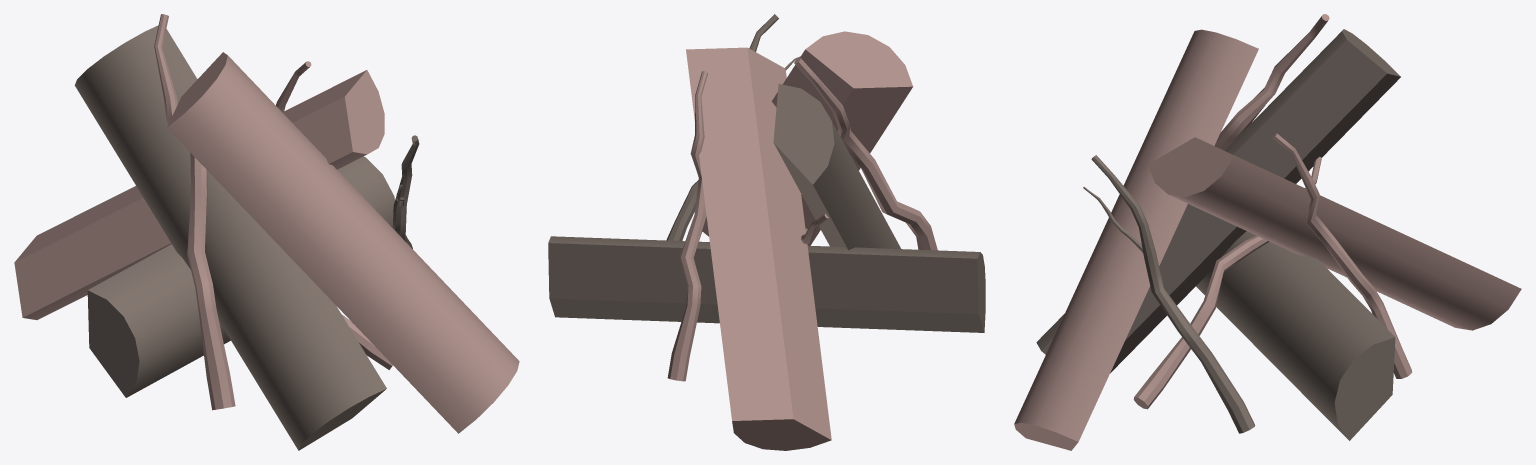
Rendered from firewood.fbx.
The picture shows the model from 3 angles, left to right: view 1: azimuth 30°, elevation 25°; view 2: azimuth 150°, elevation 25°; view 3: azimuth 270°, elevation 25°; orthographic projection.
Parts seen in each view (by area): view 1: pCylinder20; view 2: pCylinder20; view 3: pCylinder20.
Boxes of the visible parts, x1,y1,x2,y2 form: pCylinder20: (14, 14, 519, 450); pCylinder20: (548, 14, 985, 450); pCylinder20: (1014, 14, 1521, 450).
Size of the model in its own units: 10.72 by 10.03 by 12.7.
